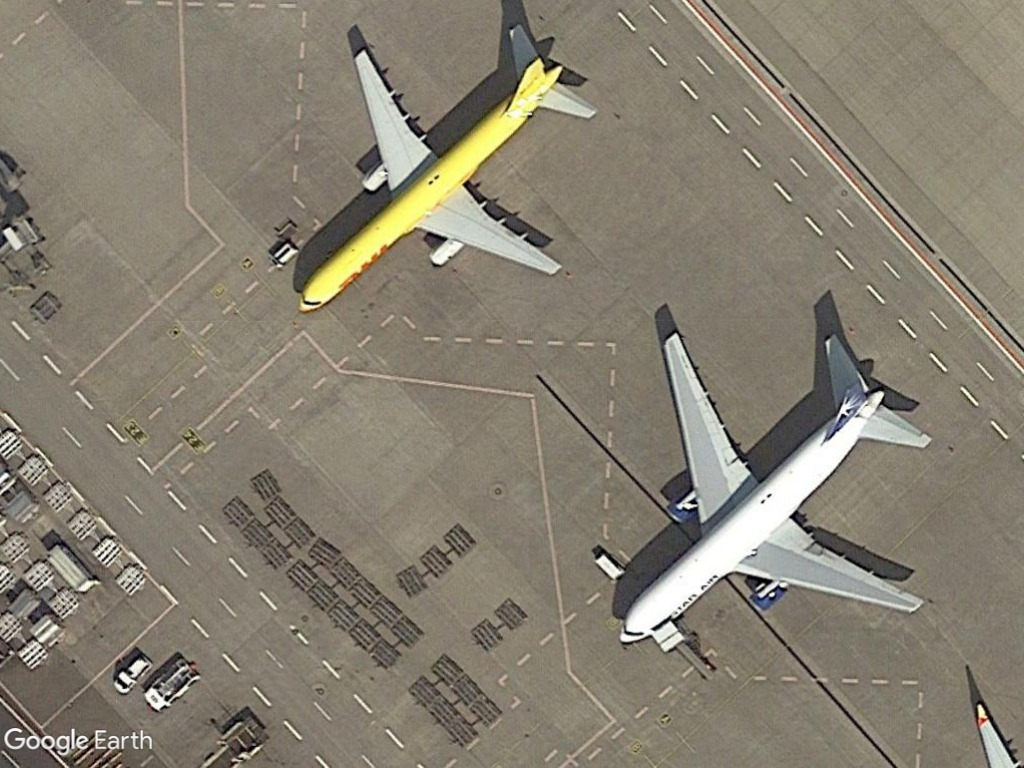airliner: (600, 290, 944, 662), (280, 21, 609, 322)
